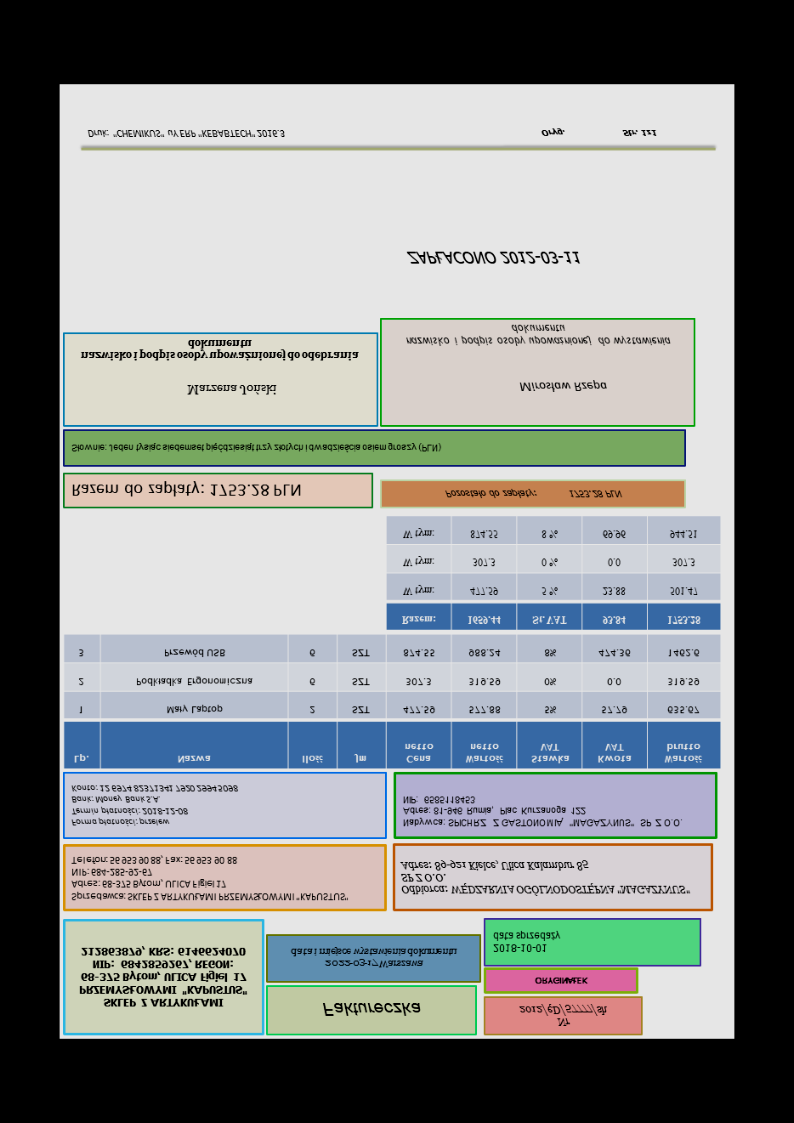Table: (62, 632, 723, 771), (385, 517, 723, 633)
TextBox: (68, 853, 349, 906), (399, 857, 693, 899), (76, 944, 249, 1012), (401, 793, 683, 831), (69, 782, 241, 830), (78, 337, 360, 364), (403, 322, 672, 350), (68, 440, 445, 456), (68, 479, 303, 502), (288, 944, 459, 972), (405, 247, 585, 270), (85, 127, 289, 142), (441, 486, 625, 502), (517, 1001, 609, 1029), (319, 997, 422, 1021), (490, 929, 560, 957), (183, 381, 278, 400), (517, 378, 610, 397), (538, 126, 659, 140), (532, 974, 587, 989)
